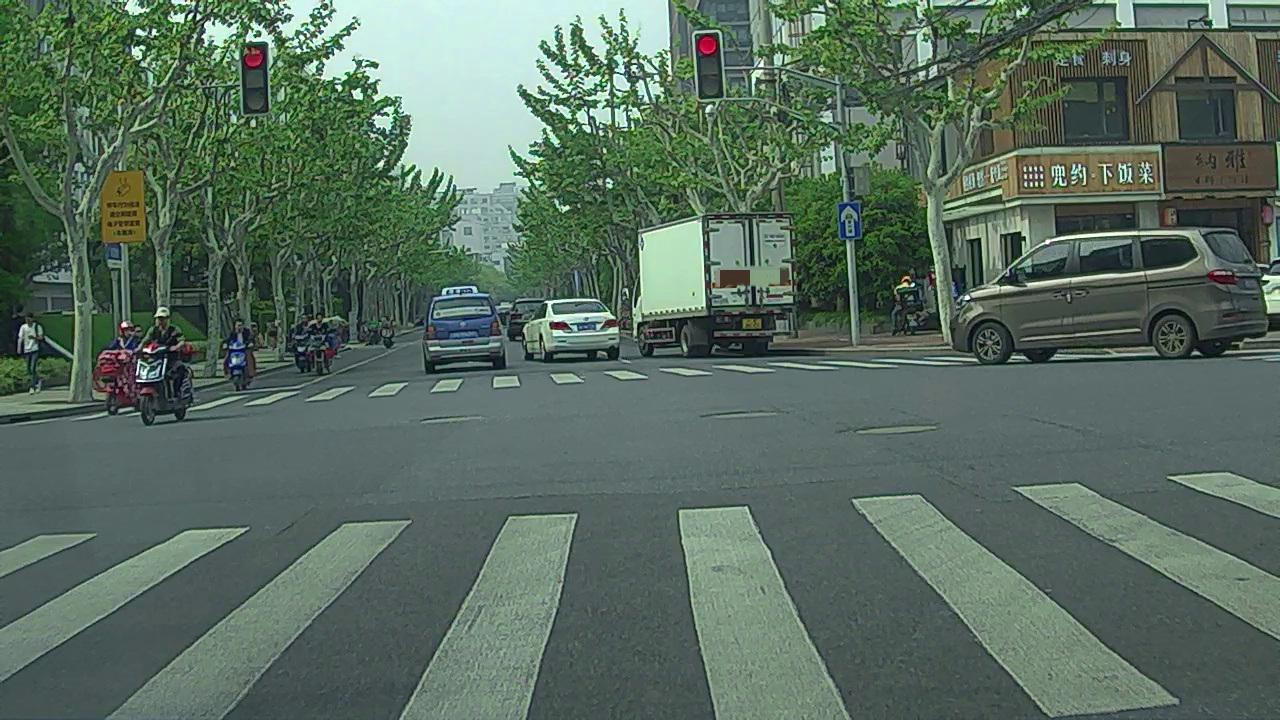traffic_light: (242, 42, 270, 115), (696, 29, 724, 100)
